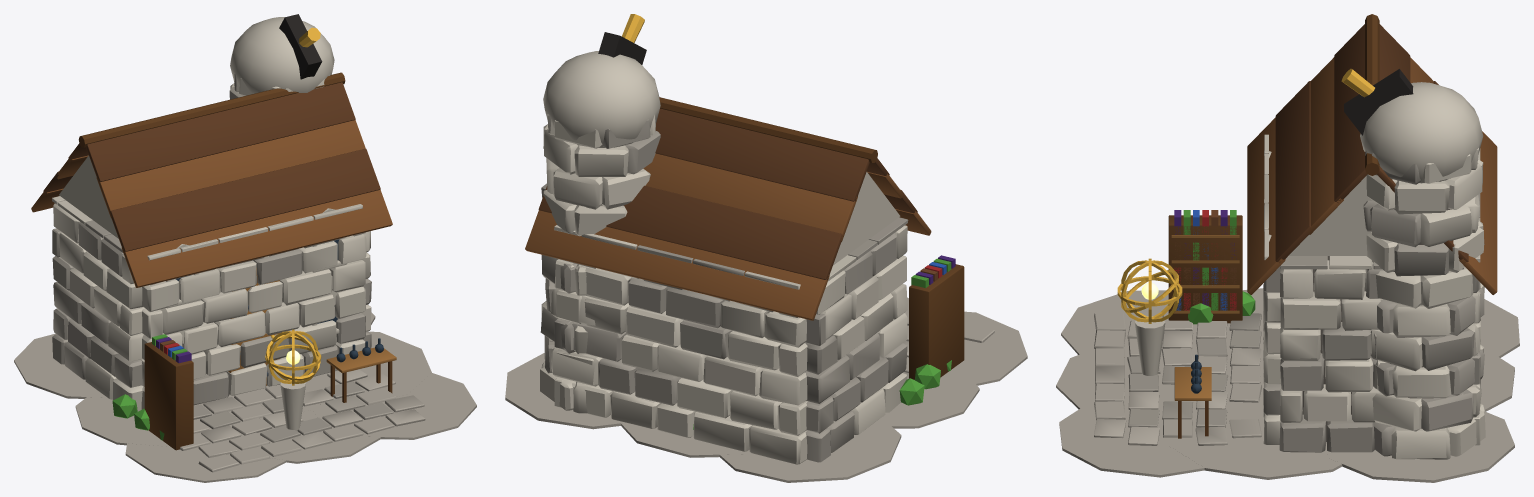
File: akademia_poz13.glb
3 renders of one model, left to right at view 1: azimuth 30°, elevation 25°; view 2: azimuth 150°, elevation 25°; view 3: azimuth 270°, elevation 25°, orthographic. The views are drawn at different scales.
Parts seen in each view (by area): view 1: akademia_poz13; view 2: akademia_poz13; view 3: akademia_poz13.
Part boxes in pixels (box(x1,y1,x2,y2)): akademia_poz13: box(14, 14, 476, 482); akademia_poz13: box(505, 14, 1027, 482); akademia_poz13: box(1056, 14, 1519, 482).
Bounding box in the file's own units: 7.44 × 6.7 × 7.51.
